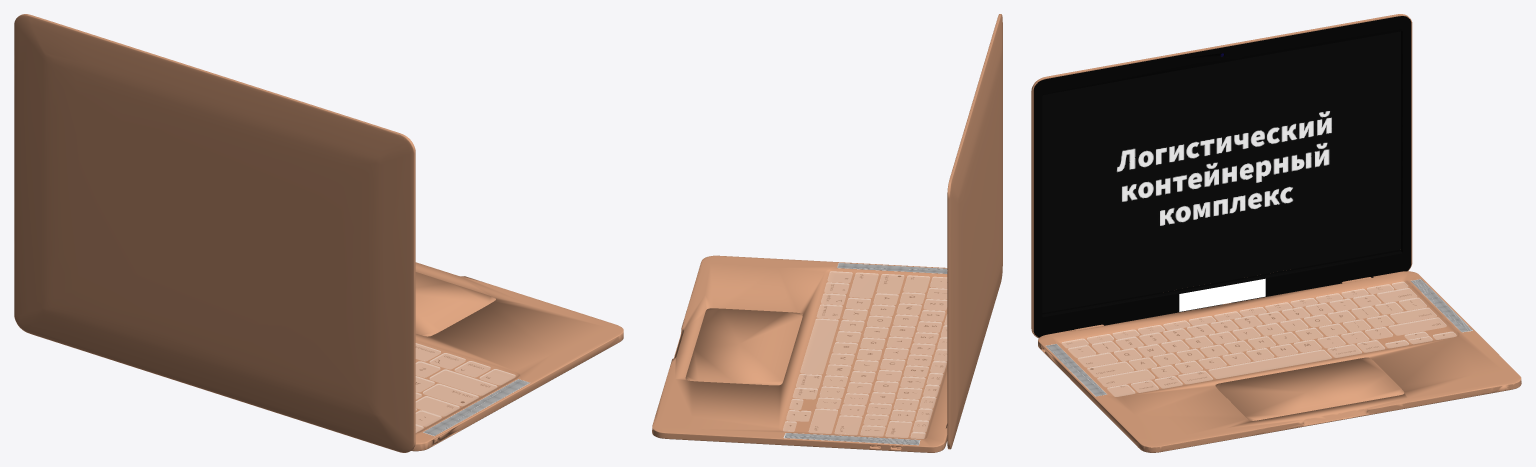
The model's file is laptop2.optimized.glb.
3 views of the same model, side by side, from view 1: azimuth 30°, elevation 25°; view 2: azimuth 150°, elevation 25°; view 3: azimuth 270°, elevation 25° (orthographic). The views are drawn at different scales.
Parts seen in each view (by area): view 1: Bottom Body, Keyboard; view 2: Bottom Body, Keyboard; view 3: Top Body, Bottom Body, Keyboard.
Boxes of the visible parts, left/top/right/bottom form: Bottom Body: left=14, top=14, right=623, bottom=452; Keyboard: left=416, top=343, right=515, bottom=432; Bottom Body: left=652, top=14, right=1002, bottom=452; Keyboard: left=783, top=271, right=946, bottom=438; Top Body: left=1033, top=16, right=1411, bottom=337; Bottom Body: left=1031, top=14, right=1521, bottom=452; Keyboard: left=1062, top=282, right=1456, bottom=396.
Bounding box in the file's own units: 5.17 × 3.6 × 5.93.
8 materials, 3 textured.
